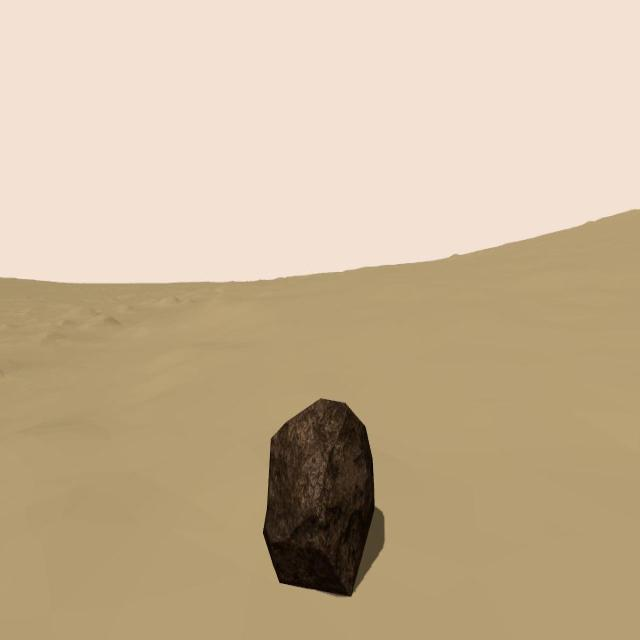rock: (263, 398, 375, 596)
